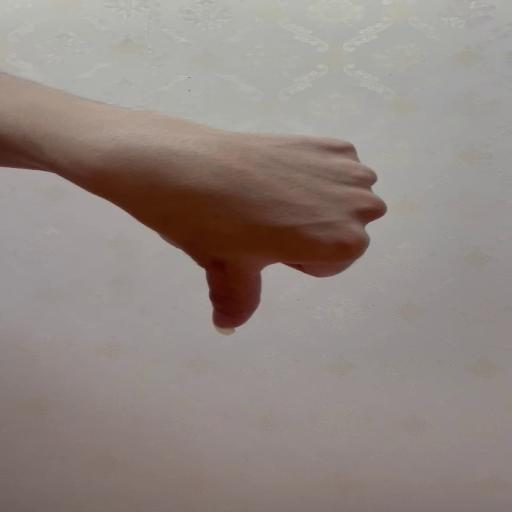thumbs_down: (118, 132, 389, 335)
